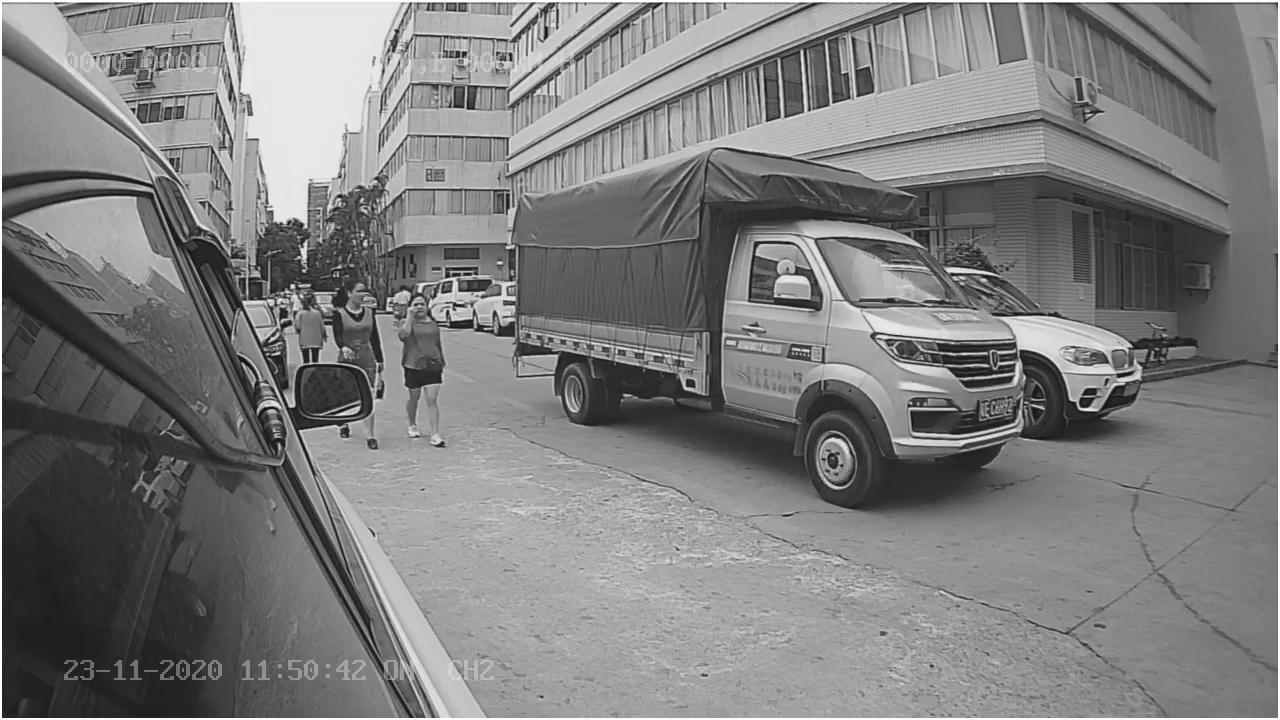person: (388, 290, 454, 445)
